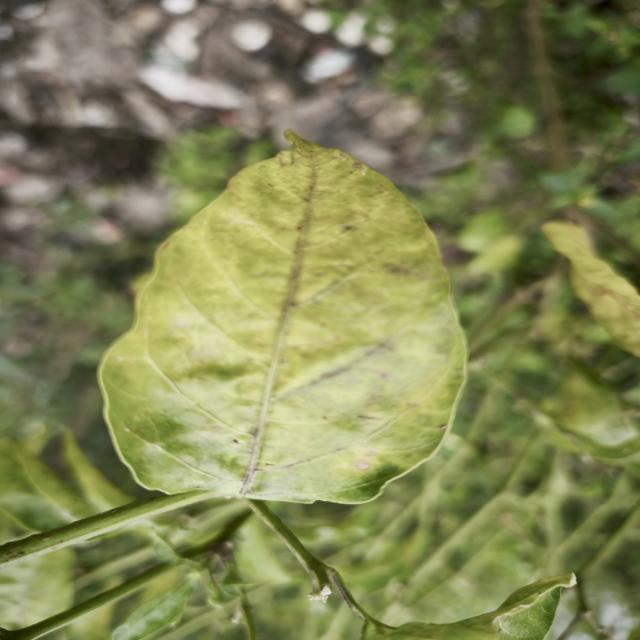Virus Kuning: (97, 130, 470, 507)
